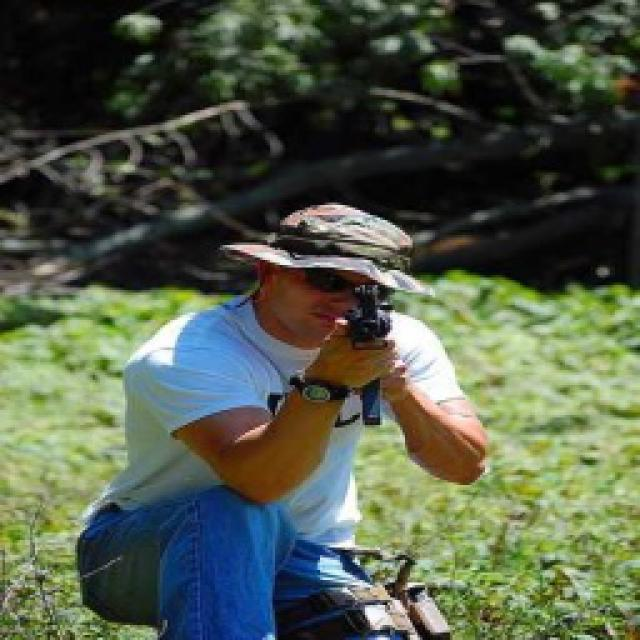long weapon: (322, 283, 411, 377)
